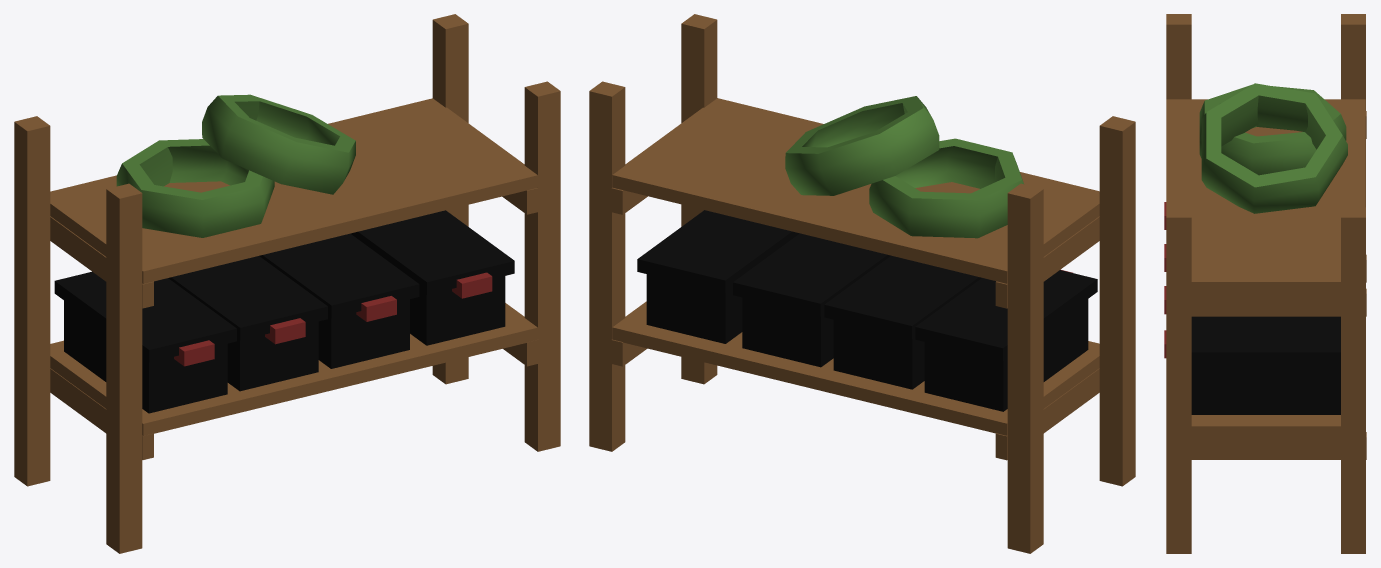
Rendered from Shelf03.fbx.
3 renders of one model, left to right at view 1: azimuth 30°, elevation 25°; view 2: azimuth 150°, elevation 25°; view 3: azimuth 270°, elevation 25°, orthographic. The views are drawn at different scales.
Parts seen in each view (by area): view 1: Cube.016; view 2: Cube.016; view 3: Cube.016.
Part boxes in pixels (x1=…): Cube.016: x1=14, y1=14, x2=560, y2=553; Cube.016: x1=589, y1=14, x2=1135, y2=553; Cube.016: x1=1164, y1=14, x2=1366, y2=553.
Bounding box in the file's own units: 854 × 671 × 358.
